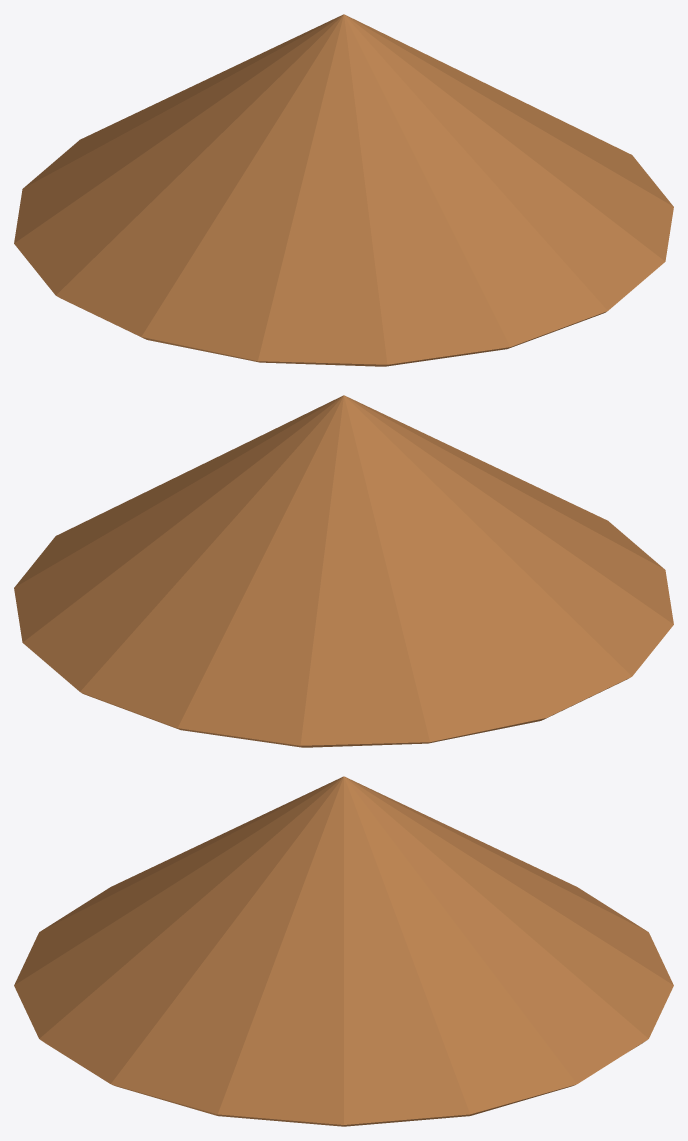
File: Kapelusz1_1.fbx
3 views of the same model, one above another, from view 1: azimuth 30°, elevation 25°; view 2: azimuth 150°, elevation 25°; view 3: azimuth 270°, elevation 25° (orthographic).
Parts seen in each view (by area): view 1: Kasa; view 2: Kasa; view 3: Kasa.
Part boxes in pixels (<box>): Kasa: <box>14,14,673,366</box>; Kasa: <box>14,395,673,747</box>; Kasa: <box>14,776,673,1126</box>.
Size of the model in its own units: 100 by 35.7 by 100.
